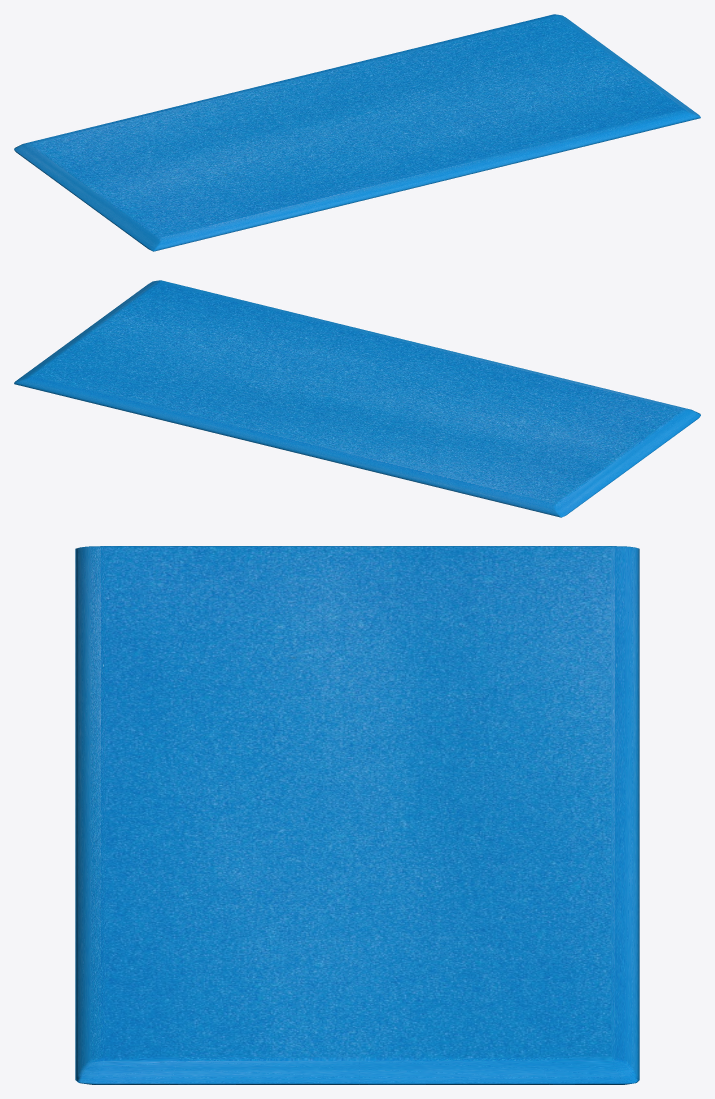
Rendered from Meditation_Mat.fbx.
The picture shows the model from 3 angles, top to bottom: view 1: azimuth 30°, elevation 25°; view 2: azimuth 150°, elevation 25°; view 3: azimuth 270°, elevation 25°; orthographic projection. The views are drawn at different scales.
Visible parts, largest first — view 1: Mat; view 2: Mat; view 3: Mat.
Boxes of the visible parts, box(x1,y1,x2,y2) form: Mat: box(14, 14, 700, 251); Mat: box(14, 280, 700, 517); Mat: box(75, 546, 639, 1084).
Bounding box in the file's own units: 122 × 1.55 × 54.21.
Materials: 1 (1 with a texture image).
